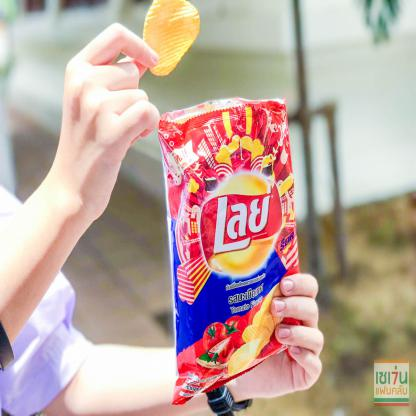potatochip: (158, 99, 310, 404)
